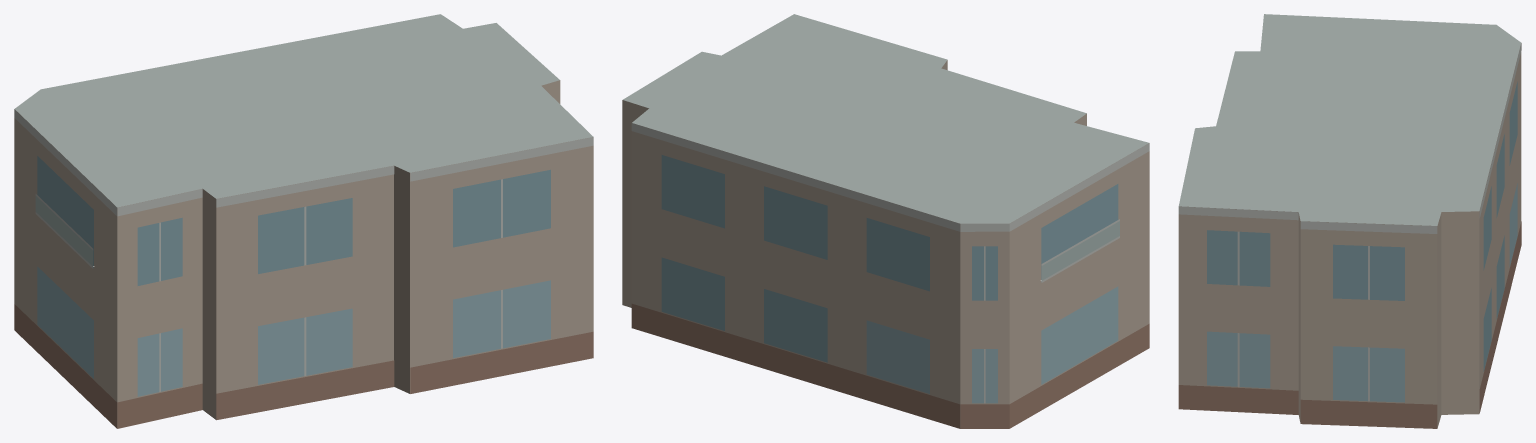
File: survey-upis-32788352.glb
3 renders of one model, left to right at view 1: azimuth 30°, elevation 25°; view 2: azimuth 150°, elevation 25°; view 3: azimuth 270°, elevation 25°, orthographic. The views are drawn at different scales.
Visible parts, largest first — view 1: survey-upis-32788352.tmp; view 2: survey-upis-32788352.tmp; view 3: survey-upis-32788352.tmp.
Boxes of the visible parts, x1=… form: survey-upis-32788352.tmp: x1=14, y1=14, x2=593, y2=428; survey-upis-32788352.tmp: x1=622, y1=14, x2=1149, y2=428; survey-upis-32788352.tmp: x1=1178, y1=14, x2=1521, y2=428.
Size of the model in its own units: 13.68 by 6.1 by 9.35.
